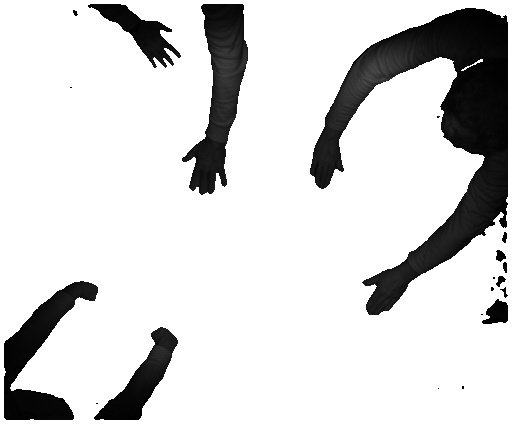fist: (150, 320, 183, 351), (73, 280, 103, 305)
hand: (176, 144, 231, 199), (360, 267, 410, 319), (133, 20, 183, 71), (304, 139, 343, 191)
